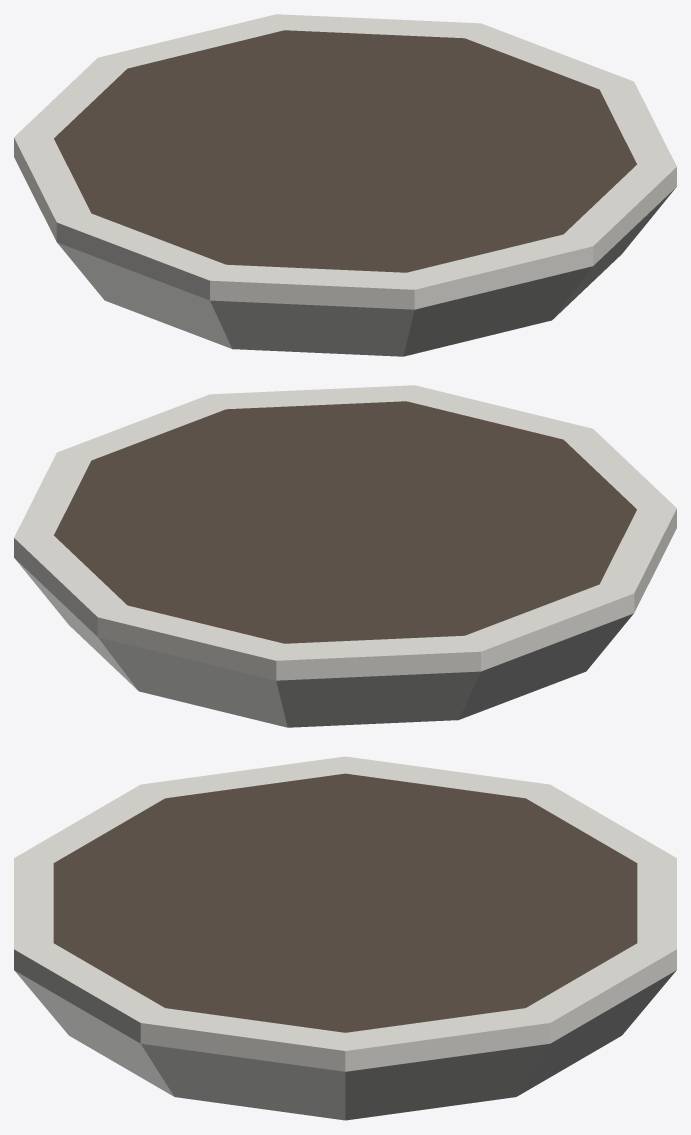
File: PROP_PLANTER_01.glb
3 renders of one model, top to bottom at view 1: azimuth 30°, elevation 25°; view 2: azimuth 150°, elevation 25°; view 3: azimuth 270°, elevation 25°, orthographic. The views are drawn at different scales.
Visible parts, largest first — view 1: CIVRUM_GAME_PROP_PLANTER_01; view 2: CIVRUM_GAME_PROP_PLANTER_01; view 3: CIVRUM_GAME_PROP_PLANTER_01.
Part boxes in pixels (x1=…): CIVRUM_GAME_PROP_PLANTER_01: x1=14, y1=14, x2=676, y2=356; CIVRUM_GAME_PROP_PLANTER_01: x1=14, y1=385, x2=676, y2=727; CIVRUM_GAME_PROP_PLANTER_01: x1=14, y1=756, x2=676, y2=1120.
Size of the model in its own units: 3.5 by 0.523 by 3.33.
